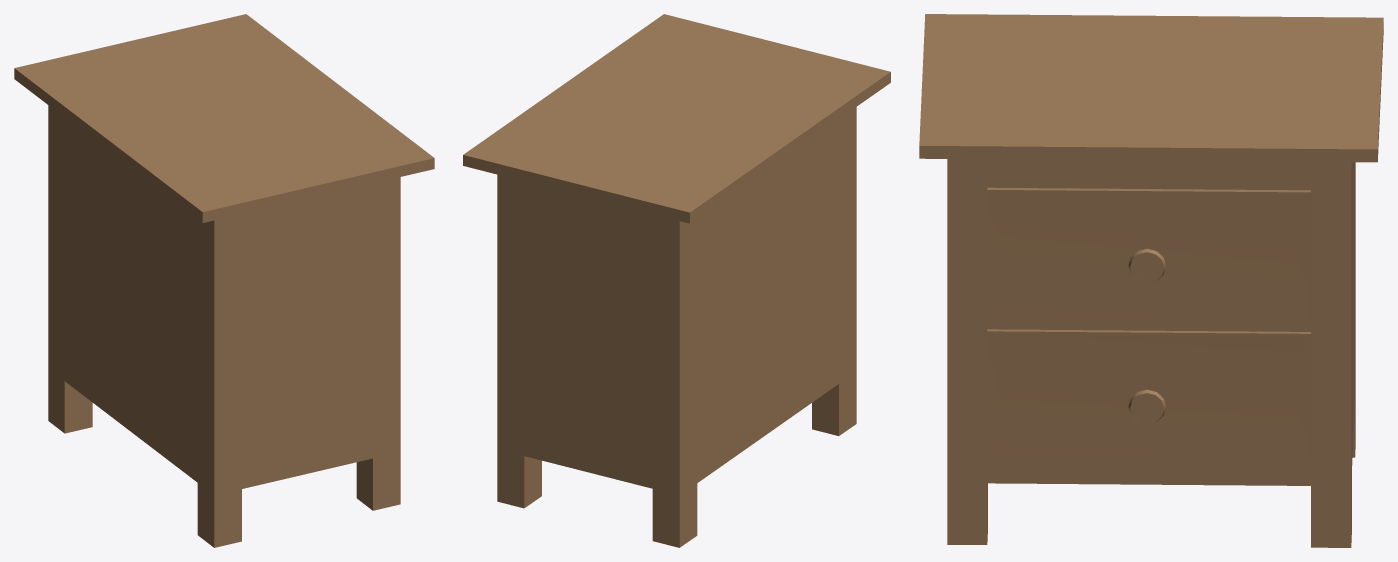
Rendered from ergoflex-furnishing-console.glb.
3 renders of one model, left to right at view 1: azimuth 30°, elevation 25°; view 2: azimuth 150°, elevation 25°; view 3: azimuth 270°, elevation 25°, orthographic. The views are drawn at different scales.
Visible parts, largest first — view 1: Supplied furnishing-console part 0; view 2: Supplied furnishing-console part 0; view 3: Supplied furnishing-console part 0.
Part boxes in pixels (bbox=[...]): Supplied furnishing-console part 0: bbox=[14, 14, 434, 547]; Supplied furnishing-console part 0: bbox=[463, 14, 890, 547]; Supplied furnishing-console part 0: bbox=[919, 14, 1383, 547].
Size of the model in its own units: 0.6352 by 0.9 by 0.9202.
